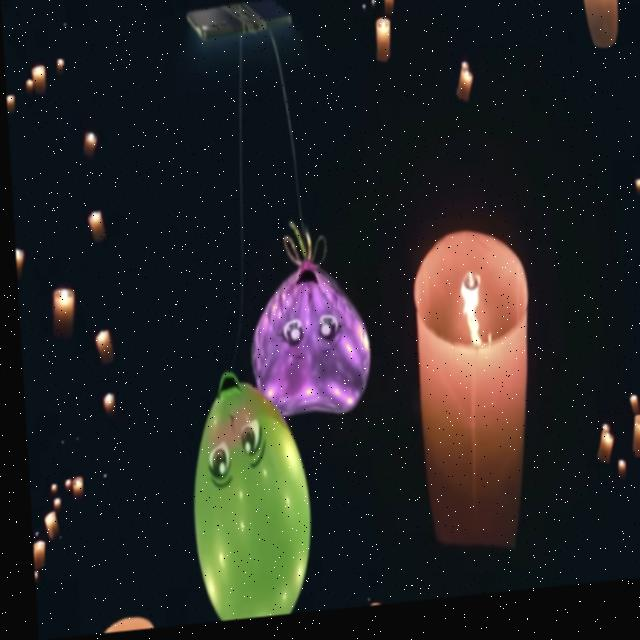balloon: (180, 377, 301, 626), (245, 258, 360, 425)
